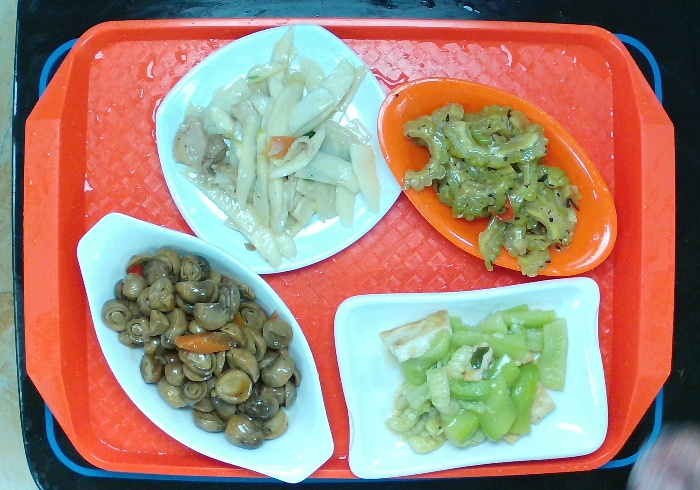RJxy-Ju_Huang_Tuo_Yuan: (375, 72, 623, 279)
RJxy-Si_Fang_Ao_Bian_Wan: (332, 276, 614, 482)
RJxy-Si_Fang_Die: (152, 21, 410, 279)
RJxy-Yu_Pan: (75, 209, 340, 490)
